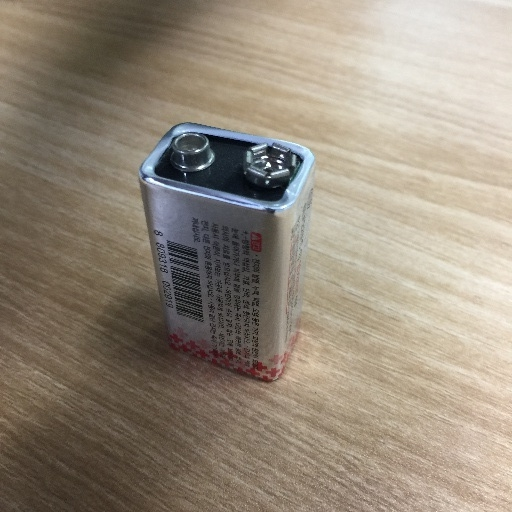Battery_3: (122, 107, 323, 403)
